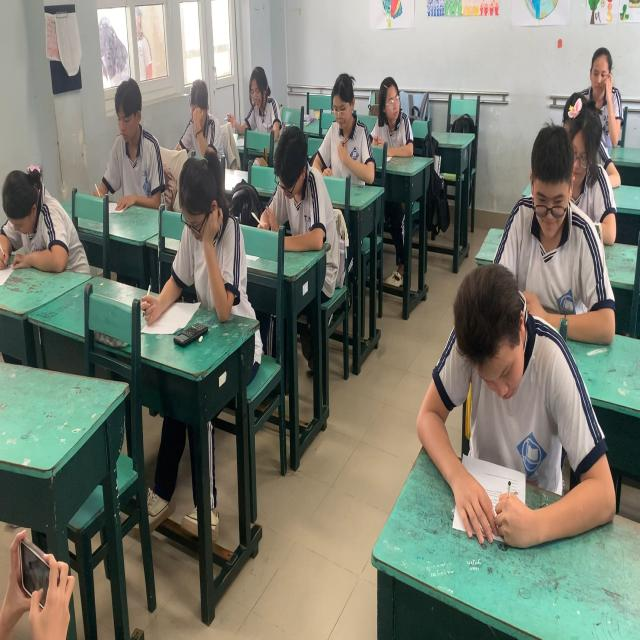cheating: (374, 74, 410, 164)
not_cheating: (427, 271, 575, 537), (501, 126, 610, 358), (165, 154, 260, 323), (0, 153, 87, 285), (99, 70, 167, 226), (260, 116, 324, 243), (557, 92, 610, 222), (311, 74, 375, 174), (182, 77, 224, 164), (589, 47, 620, 153), (244, 67, 284, 136)
